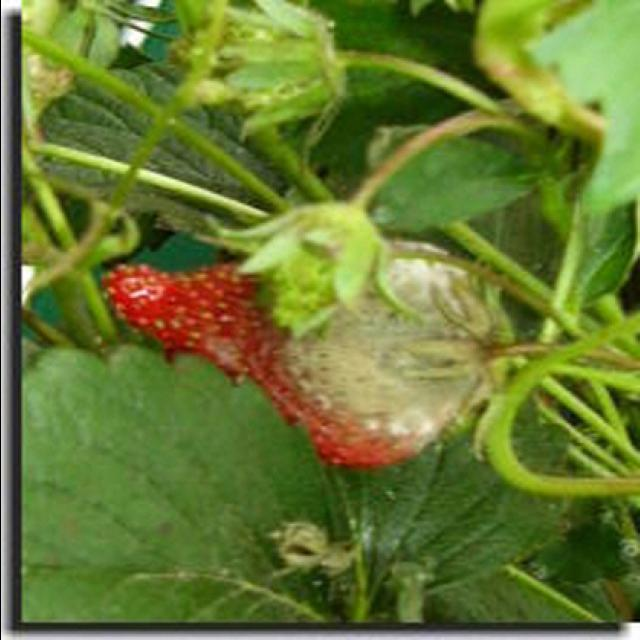Gray Mold: (240, 241, 493, 461)
